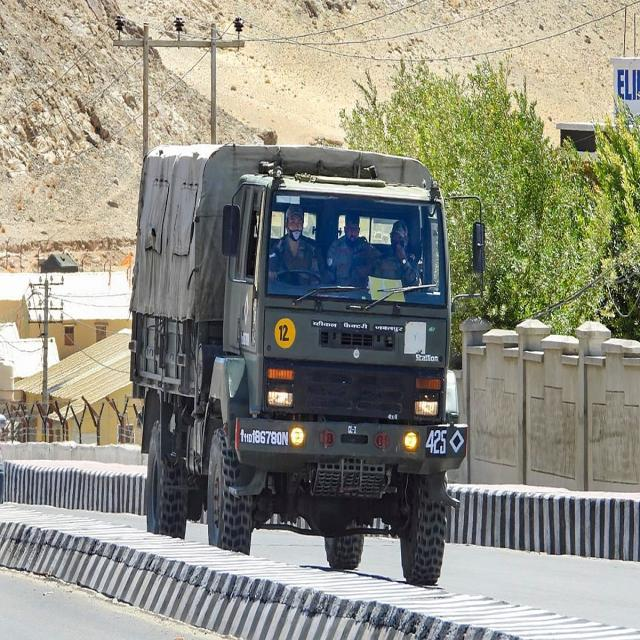truck: (130, 144, 469, 583)
